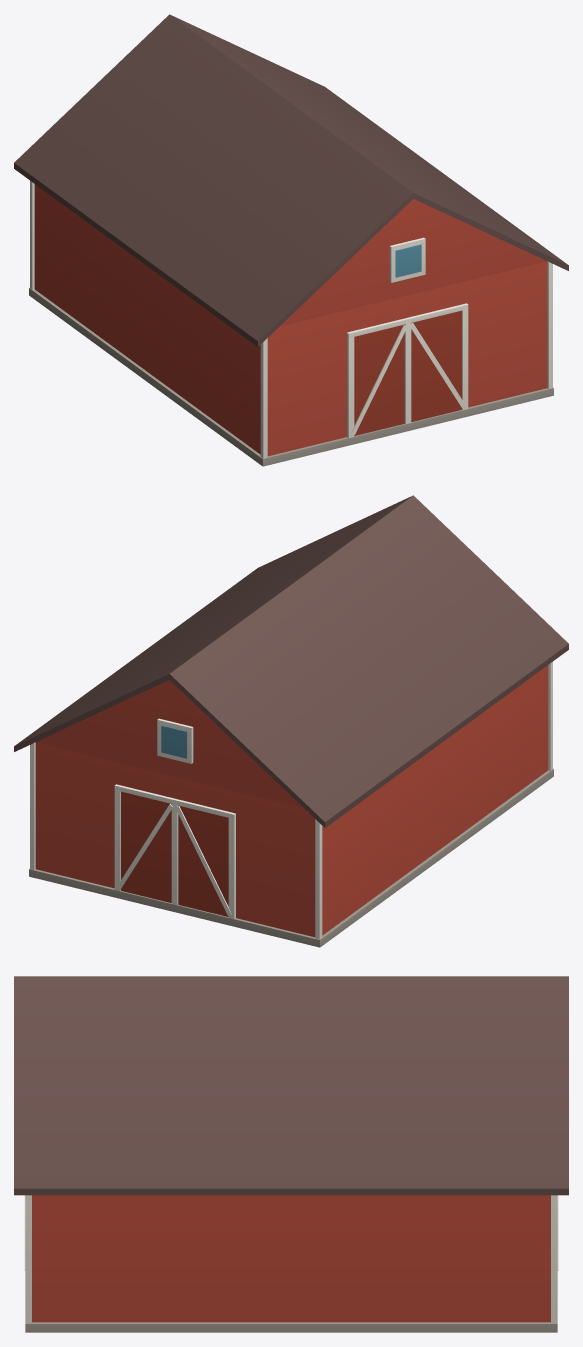
Rendered from barn.glb.
The picture shows the model from 3 angles, top to bottom: view 1: azimuth 30°, elevation 25°; view 2: azimuth 150°, elevation 25°; view 3: azimuth 270°, elevation 25°; orthographic projection. The views are drawn at different scales.
Visible parts, largest first — view 1: barn; view 2: barn; view 3: barn.
Boxes of the visible parts, <box> form: barn: <box>14,14,568,466</box>; barn: <box>14,495,568,947</box>; barn: <box>14,976,568,1332</box>.
Bounding box in the file's own units: 10.9 × 8.1 × 14.8.
2 materials, 2 textured.
